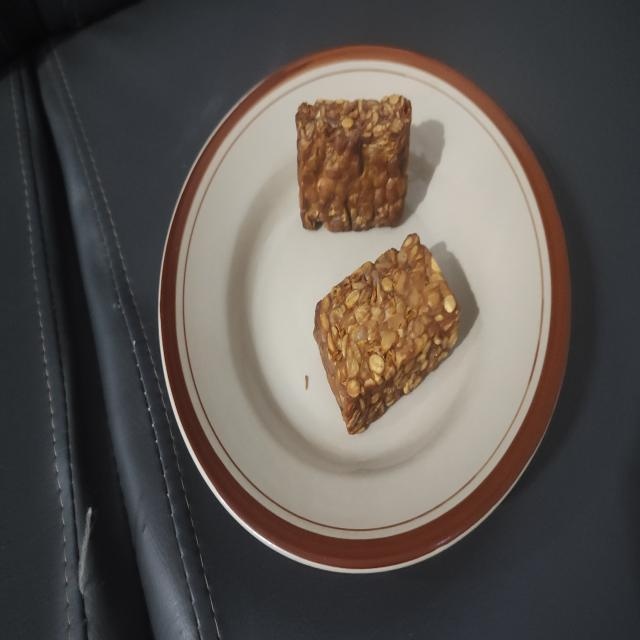tempe_goreng: (314, 234, 459, 434), (296, 97, 411, 232)
